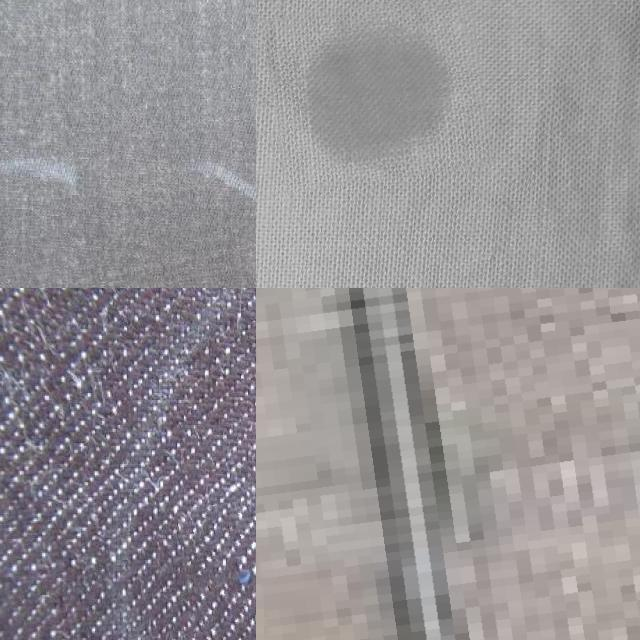Hole: (267, 0, 489, 187)
Stitch: (256, 288, 640, 640)
Thread_other: (0, 216, 256, 288)
